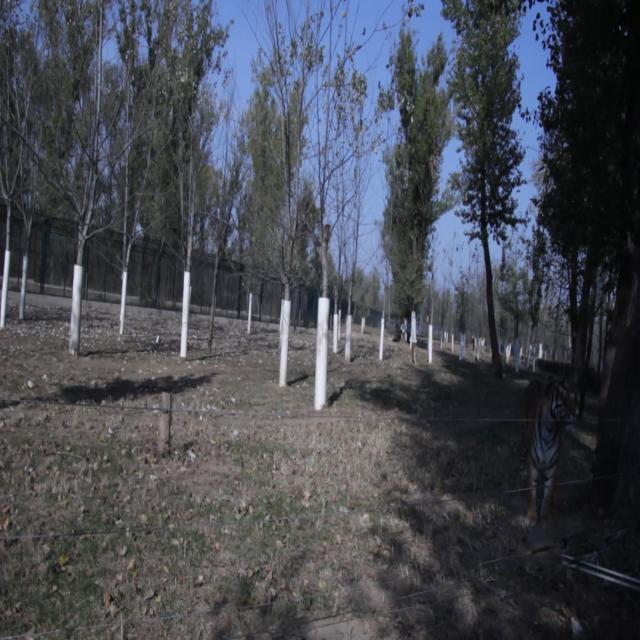Tiger: (519, 364, 579, 529)
